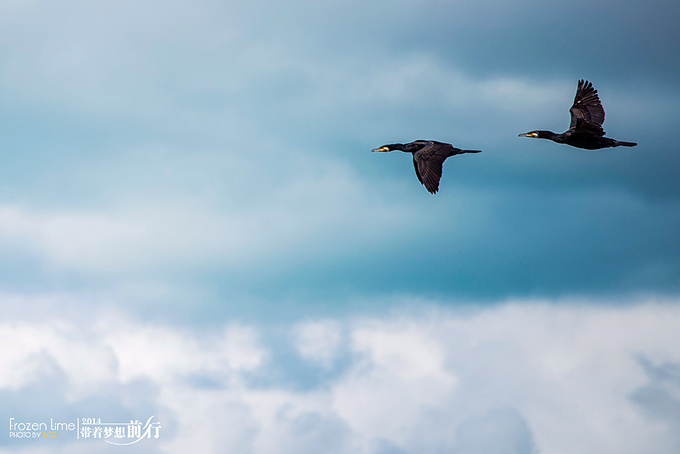bird: (517, 79, 641, 154), (369, 139, 486, 191)
